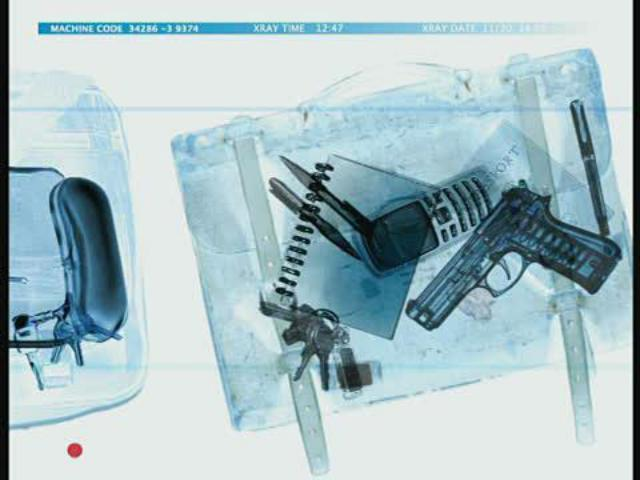Gun: (402, 184, 622, 332)
